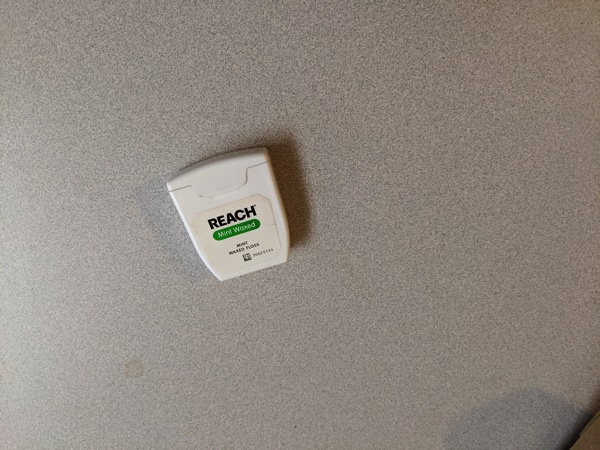plastic: (157, 137, 305, 295)
